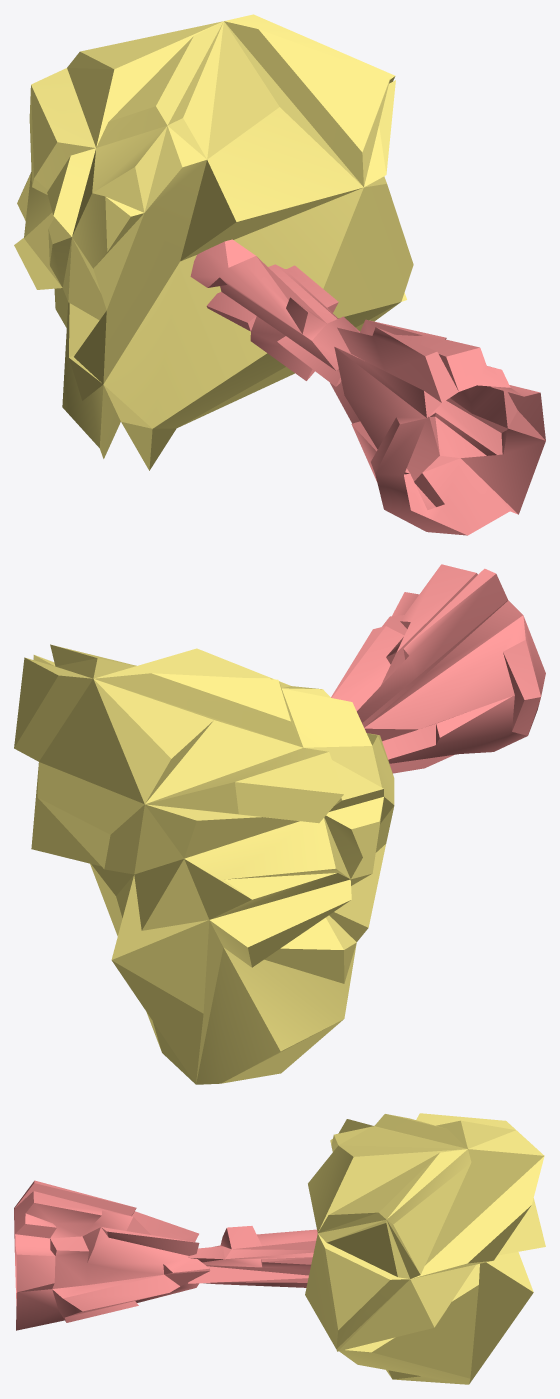
The model's file is FranTreeOptimized.FBX.
3 views of the same model, one above another, from view 1: azimuth 30°, elevation 25°; view 2: azimuth 150°, elevation 25°; view 3: azimuth 270°, elevation 25° (orthographic). The views are drawn at different scales.
Parts seen in each view (by area): view 1: Group51641; view 2: Group51641; view 3: Group51641.
Part boxes in pixels (left/top/right/bottom): Group51641: left=14, top=14, right=545, bottom=535; Group51641: left=14, top=564, right=545, bottom=1084; Group51641: left=14, top=1113, right=545, bottom=1384.
Size of the model in its own units: 77168 by 81764 by 141026.
